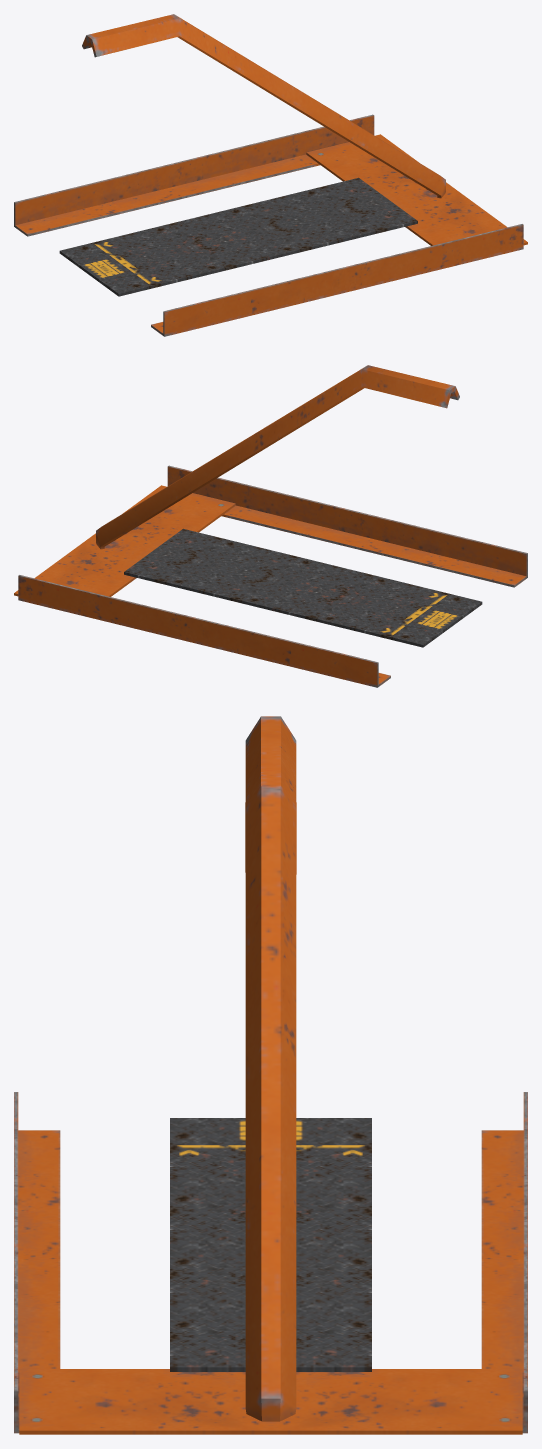
File: CraneFrontArmEnd.fbx
3 renders of one model, top to bottom at view 1: azimuth 30°, elevation 25°; view 2: azimuth 150°, elevation 25°; view 3: azimuth 270°, elevation 25°, orthographic. The views are drawn at different scales.
Parts seen in each view (by area): view 1: Crane_Front_Arm_End_LOD0; view 2: Crane_Front_Arm_End_LOD0; view 3: Crane_Front_Arm_End_LOD0.
Part boxes in pixels (x1,y1,x2,y2): Crane_Front_Arm_End_LOD0: [14, 14, 527, 336]; Crane_Front_Arm_End_LOD0: [14, 365, 527, 687]; Crane_Front_Arm_End_LOD0: [14, 716, 527, 1434].
Size of what is drawn, in the model's own units: 2.87 by 1.83 by 2.05.
